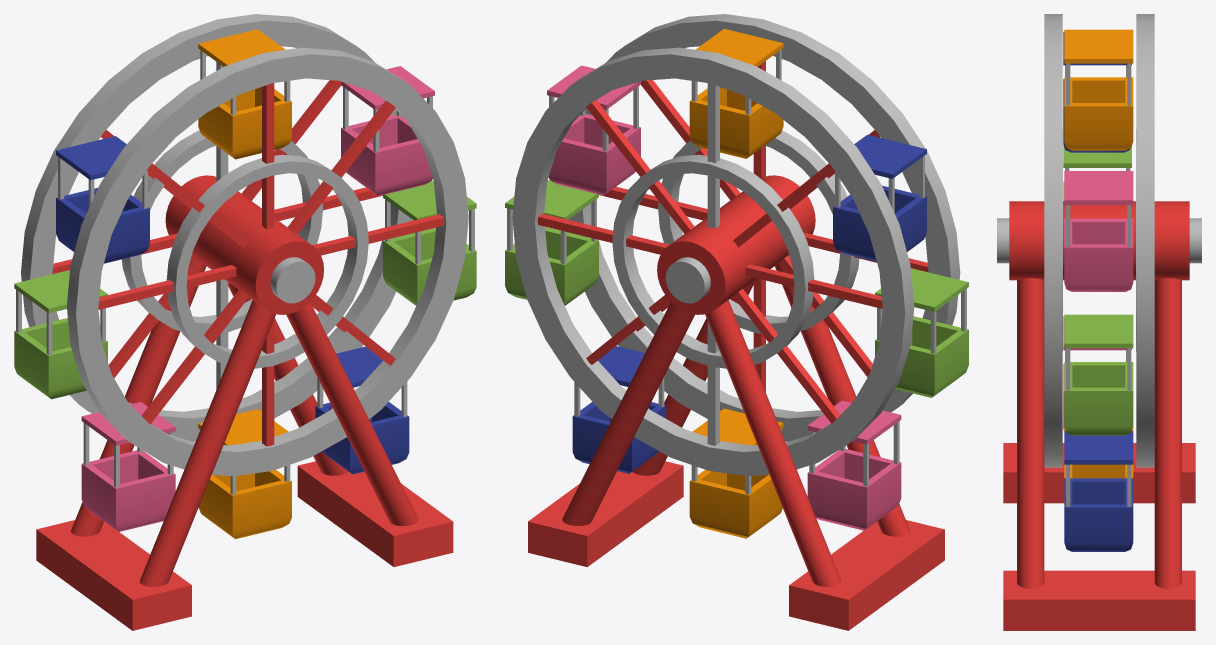
File: ferris_wheel.gltf
3 renders of one model, left to right at view 1: azimuth 30°, elevation 25°; view 2: azimuth 150°, elevation 25°; view 3: azimuth 270°, elevation 25°, orthographic.
Visible parts, largest first — view 1: Circle.2373; view 2: Circle.2373; view 3: Circle.2373.
Boxes of the visible parts, x1,y1,x2,y2 form: Circle.2373: (14,14,476,630); Circle.2373: (505,14,968,630); Circle.2373: (997,14,1201,630).
Bounding box in the file's own units: 1.68 × 1.93 × 0.6922.
1 material, 1 textured.
